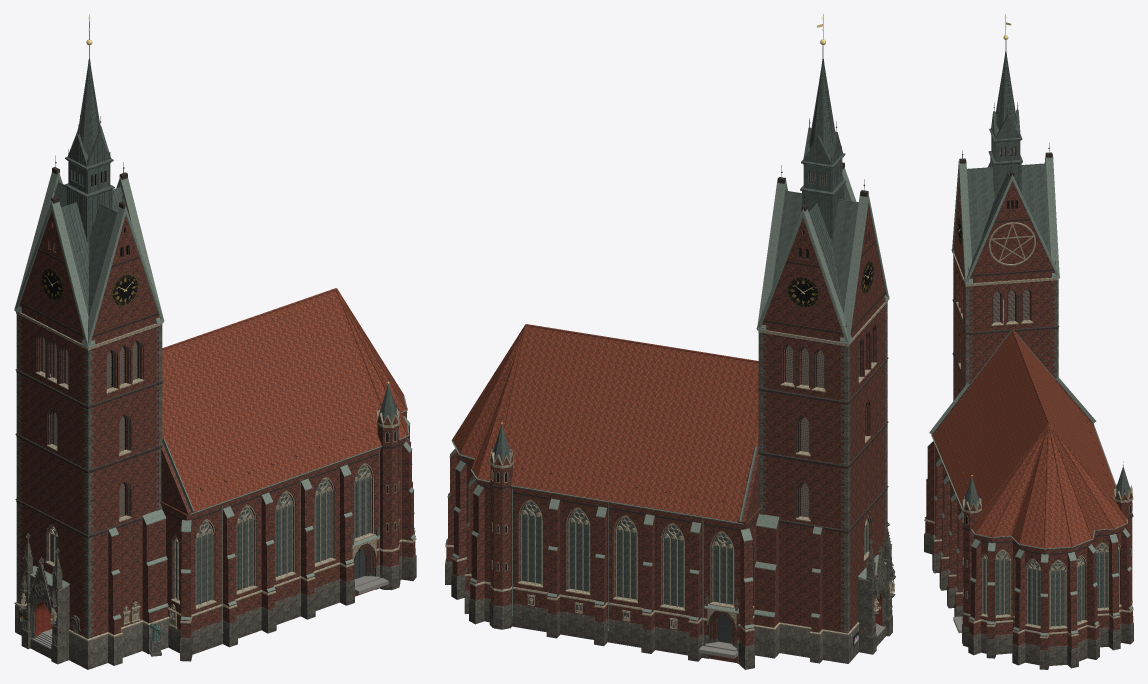
File: marktkirche.glb
3 renders of one model, left to right at view 1: azimuth 30°, elevation 25°; view 2: azimuth 150°, elevation 25°; view 3: azimuth 270°, elevation 25°, orthographic. The views are drawn at different scales.
Visible parts, largest first — view 1: MK_wall_Backstein, MK_roof_Dachziegel_nocol, MK_wall_Sandstein_dunkel, MK_det_Kupfer_Patina_nocol, MK_roof_Kupfer_nocol, MK_det_Sandstein_nocol, MK_det_Bleiglas_nocol, MK_wall_Sandstein_Quader, MK_det_Glasurstein_nocol, MK_fine_Kupfer_nocol_noshadow, MK_wall_Glasurstein, MK_fine_Stahl_nocol_noshadow (+10 smaller); view 2: MK_wall_Backstein, MK_roof_Dachziegel_nocol, MK_wall_Sandstein_dunkel, MK_det_Kupfer_Patina_nocol, MK_roof_Kupfer_nocol, MK_det_Sandstein_nocol, MK_wall_Sandstein_Quader, MK_det_Bleiglas_nocol, MK_det_Glasurstein_nocol, MK_fine_Kupfer_nocol_noshadow, MK_wall_Glasurstein, MK_det_Backstein_nocol (+8 smaller); view 3: MK_wall_Backstein, MK_roof_Dachziegel_nocol, MK_roof_Kupfer_nocol, MK_det_Kupfer_Patina_nocol, MK_det_Sandstein_nocol, MK_wall_Sandstein_Quader, MK_det_Bleiglas_nocol, MK_fine_Kupfer_nocol_noshadow, MK_wall_Sandstein_dunkel, MK_det_Glasurstein_nocol, MK_fine_Stahl_nocol_noshadow, MK_det_Backstein_nocol (+6 smaller).
Part boxes in pixels (<box>): MK_wall_Backstein: <box>19,186,415,637</box>; MK_roof_Dachziegel_nocol: <box>162,288,408,512</box>; MK_wall_Sandstein_dunkel: <box>15,314,169,669</box>; MK_det_Kupfer_Patina_nocol: <box>14,171,415,632</box>; MK_roof_Kupfer_nocol: <box>54,65,403,512</box>; MK_det_Sandstein_nocol: <box>14,311,416,641</box>; MK_det_Bleiglas_nocol: <box>50,465,370,604</box>; MK_wall_Sandstein_Quader: <box>168,532,416,661</box>; MK_det_Glasurstein_nocol: <box>15,167,404,577</box>; MK_fine_Kupfer_nocol_noshadow: <box>56,59,396,417</box>; MK_wall_Glasurstein: <box>36,239,375,600</box>; MK_fine_Stahl_nocol_noshadow: <box>50,479,370,603</box>; MK_wall_Backstein: <box>446,188,885,662</box>; MK_roof_Dachziegel_nocol: <box>452,324,758,522</box>; MK_wall_Sandstein_dunkel: <box>753,303,892,663</box>; MK_det_Kupfer_Patina_nocol: <box>446,167,889,644</box>; MK_roof_Kupfer_nocol: <box>480,62,858,522</box>; MK_det_Sandstein_nocol: <box>445,300,894,635</box>; MK_wall_Sandstein_Quader: <box>445,559,754,669</box>; MK_det_Bleiglas_nocol: <box>522,501,866,607</box>; MK_det_Glasurstein_nocol: <box>457,162,888,644</box>; MK_fine_Kupfer_nocol_noshadow: <box>492,58,858,458</box>; MK_wall_Glasurstein: <box>468,232,876,638</box>; MK_det_Backstein_nocol: <box>460,455,761,644</box>; MK_wall_Backstein: <box>925,177,1132,650</box>; MK_roof_Dachziegel_nocol: <box>933,329,1127,548</box>; MK_roof_Kupfer_nocol: <box>964,56,1129,548</box>; MK_det_Kupfer_Patina_nocol: <box>925,154,1133,635</box>; MK_det_Sandstein_nocol: <box>924,222,1133,638</box>; MK_wall_Sandstein_Quader: <box>924,533,1133,669</box>; MK_det_Bleiglas_nocol: <box>983,544,1118,626</box>; MK_fine_Kupfer_nocol_noshadow: <box>964,51,1130,504</box>; MK_wall_Sandstein_dunkel: <box>953,255,1058,400</box>; MK_det_Glasurstein_nocol: <box>952,152,1133,554</box>; MK_fine_Stahl_nocol_noshadow: <box>983,550,1118,625</box>; MK_det_Backstein_nocol: <box>962,492,1132,553</box>.
Bounding box in the file's own units: 67.6 × 98.8 × 36.36.
21 materials, 18 textured.
